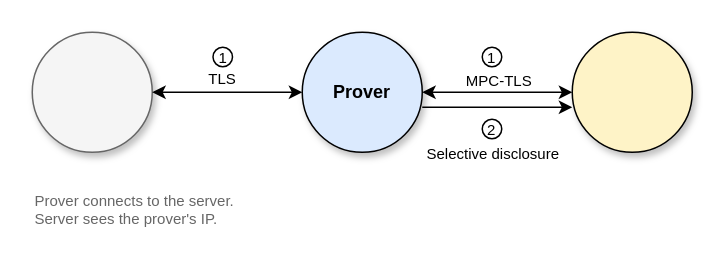
The diagram is 728 pixels wide and 255 high, and some of its shapes have lost their labels. The centre of each missing label's shape, as x and y in pixels:
"Server" goes at point (93, 94).
"Verifier" goes at point (633, 94).
